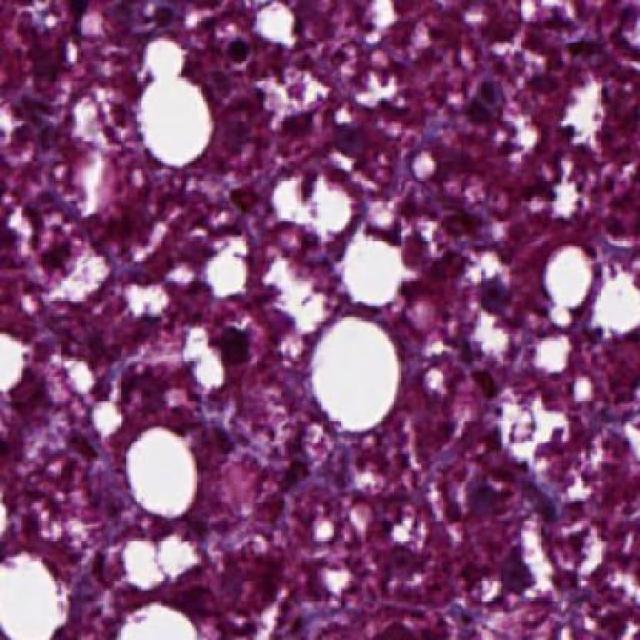steatosis: (128, 422, 206, 516)
